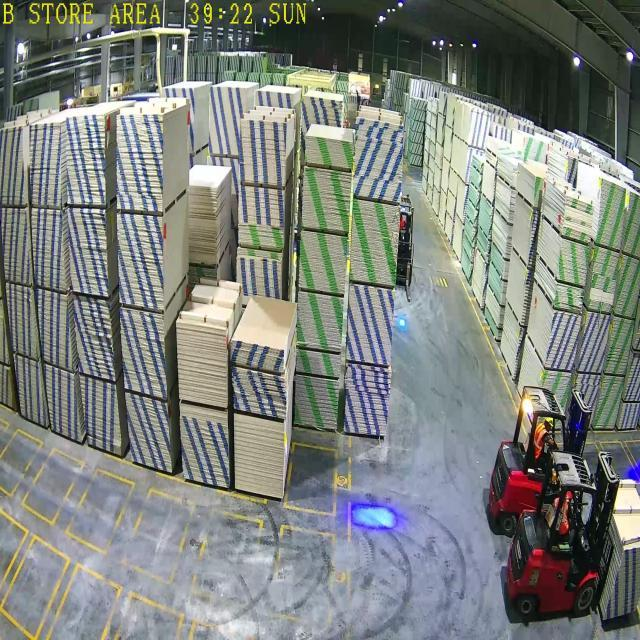material_stack: (354, 127, 401, 194), (234, 424, 283, 488), (354, 207, 396, 280), (350, 290, 390, 362), (346, 368, 386, 434), (304, 174, 350, 226), (301, 238, 344, 288), (298, 298, 342, 346), (296, 381, 338, 424), (234, 376, 286, 409), (595, 184, 622, 241), (546, 316, 574, 369), (588, 253, 614, 308), (582, 316, 604, 372), (562, 197, 592, 235), (306, 138, 352, 162), (231, 343, 284, 362), (557, 247, 586, 280), (298, 355, 340, 372), (554, 288, 582, 310)
